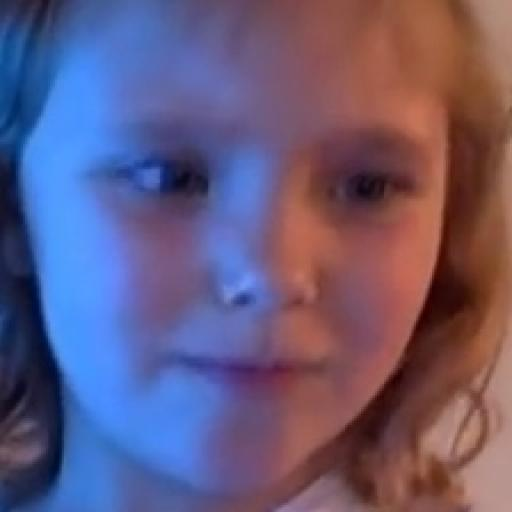Autism: (4, 18, 503, 487)
